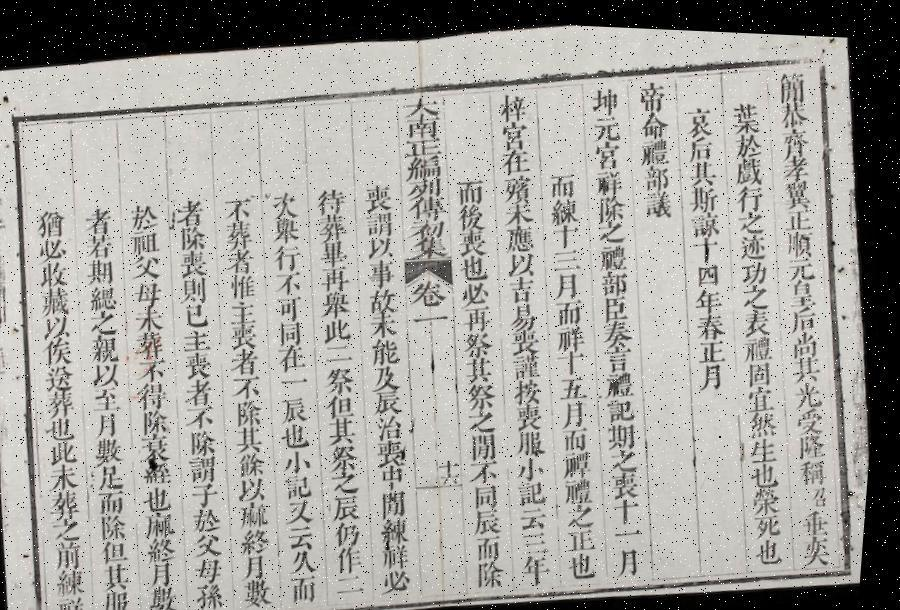c: (410, 272, 454, 306), (728, 90, 766, 129), (772, 60, 812, 96), (805, 525, 844, 561), (51, 486, 92, 520), (524, 546, 562, 582), (38, 284, 78, 318), (495, 84, 532, 120), (34, 205, 72, 240), (682, 96, 718, 132), (223, 214, 260, 249), (777, 117, 814, 152), (500, 168, 538, 202), (732, 147, 770, 181), (401, 109, 445, 138), (634, 72, 670, 107), (618, 538, 654, 573), (314, 180, 351, 214), (742, 298, 779, 332), (57, 537, 94, 571), (613, 462, 650, 496), (136, 326, 173, 360), (780, 170, 818, 203), (754, 476, 792, 509), (637, 129, 676, 161), (43, 334, 82, 366), (410, 230, 454, 258), (362, 176, 398, 210), (587, 78, 623, 112), (174, 192, 210, 226), (497, 114, 533, 148), (293, 568, 329, 602), (90, 330, 126, 364), (329, 411, 366, 444), (597, 235, 634, 268), (602, 313, 639, 346), (47, 385, 84, 418), (326, 360, 363, 393), (408, 190, 450, 219), (271, 238, 309, 270), (504, 218, 542, 250), (138, 378, 176, 410), (242, 496, 280, 528), (566, 470, 604, 502), (142, 429, 180, 461), (796, 397, 834, 429), (798, 448, 836, 480), (786, 270, 824, 302), (246, 574, 284, 606), (104, 559, 142, 591), (696, 304, 734, 336), (404, 150, 447, 178), (128, 198, 164, 231), (278, 339, 314, 372), (400, 89, 444, 116), (548, 190, 585, 222), (687, 176, 724, 208), (335, 488, 372, 520), (338, 540, 375, 572), (231, 344, 268, 376), (609, 414, 646, 446), (200, 578, 237, 610), (636, 102, 673, 134), (316, 208, 353, 240), (321, 286, 358, 318), (371, 332, 408, 364), (148, 507, 186, 538), (688, 203, 726, 234), (498, 142, 536, 173), (564, 443, 602, 474), (378, 433, 416, 464), (518, 472, 556, 503), (384, 536, 422, 567), (51, 460, 89, 491), (794, 371, 832, 402), (791, 345, 829, 376), (606, 363, 644, 394), (363, 205, 401, 236), (591, 133, 626, 166), (244, 522, 280, 554), (518, 422, 554, 454), (282, 390, 318, 422), (332, 438, 368, 470), (191, 451, 227, 483), (236, 394, 272, 426), (186, 374, 222, 406), (190, 424, 226, 456), (178, 246, 214, 278), (228, 268, 264, 300), (640, 156, 676, 188), (237, 421, 273, 453), (96, 434, 132, 466), (546, 164, 582, 196), (480, 553, 516, 585), (642, 183, 678, 215), (758, 528, 794, 560), (750, 400, 786, 432), (804, 498, 840, 530), (516, 396, 552, 428), (572, 544, 608, 576), (454, 170, 490, 202), (784, 220, 820, 252), (87, 282, 124, 313), (322, 312, 360, 342), (556, 318, 594, 348), (510, 322, 548, 352), (385, 562, 423, 592), (147, 480, 182, 512), (367, 254, 402, 286), (370, 306, 406, 337), (468, 377, 504, 408), (318, 235, 354, 266), (456, 197, 492, 228), (458, 223, 494, 254), (271, 212, 307, 243), (595, 188, 631, 219), (464, 325, 500, 356), (514, 372, 550, 403), (286, 468, 322, 499), (134, 276, 170, 307), (102, 510, 138, 541), (614, 489, 650, 520), (789, 296, 825, 327), (734, 176, 770, 207), (752, 426, 788, 457), (608, 389, 644, 420), (60, 566, 96, 597), (196, 502, 233, 532), (461, 275, 498, 305), (131, 250, 168, 280), (463, 300, 500, 330), (142, 405, 179, 435), (150, 532, 187, 562), (798, 423, 835, 453), (522, 498, 559, 528), (775, 92, 812, 122), (145, 455, 182, 485), (45, 362, 82, 392), (130, 226, 168, 255), (568, 496, 606, 525), (332, 465, 370, 494), (518, 449, 556, 478), (402, 132, 446, 157), (270, 185, 304, 217), (384, 484, 418, 516), (554, 264, 588, 296), (82, 203, 117, 234), (472, 426, 507, 457), (510, 297, 545, 328), (230, 318, 266, 348), (274, 265, 310, 295), (180, 273, 216, 303), (384, 512, 420, 542), (466, 350, 502, 380), (459, 249, 495, 279), (83, 230, 119, 260), (135, 302, 171, 332), (476, 502, 512, 532), (590, 108, 626, 138), (38, 258, 74, 288), (197, 528, 233, 558), (694, 278, 730, 308), (748, 376, 784, 406), (506, 246, 542, 276), (744, 327, 780, 357), (51, 436, 87, 466), (560, 368, 596, 398), (198, 552, 234, 582), (223, 191, 259, 221), (94, 382, 130, 412), (368, 282, 404, 312), (513, 348, 550, 377), (233, 370, 270, 399), (756, 504, 793, 533), (103, 536, 140, 565), (285, 444, 322, 473), (414, 304, 455, 330), (700, 354, 734, 385), (562, 393, 596, 424), (86, 255, 121, 285), (289, 493, 324, 523), (508, 270, 543, 300), (600, 262, 635, 292), (101, 486, 136, 516), (686, 152, 721, 182), (99, 460, 134, 490), (240, 471, 276, 500), (89, 307, 125, 336), (37, 235, 73, 264), (570, 520, 606, 549), (290, 520, 326, 549), (790, 322, 826, 351), (746, 352, 782, 381), (604, 339, 640, 368), (92, 358, 128, 387), (319, 262, 356, 290), (153, 582, 190, 610), (42, 312, 79, 340), (48, 413, 85, 441), (470, 403, 507, 431), (472, 454, 509, 482), (186, 348, 220, 378), (594, 162, 628, 192), (284, 418, 318, 448), (692, 228, 726, 258), (377, 409, 412, 438), (226, 245, 261, 274), (337, 516, 372, 545), (742, 275, 777, 304), (754, 452, 789, 481), (602, 288, 637, 317), (556, 294, 591, 323), (293, 544, 328, 573), (138, 354, 174, 382), (550, 218, 586, 246), (552, 241, 588, 269), (612, 440, 648, 468), (783, 198, 819, 226), (524, 524, 560, 552), (730, 124, 766, 152), (558, 344, 594, 372), (785, 247, 822, 274), (55, 515, 92, 542), (184, 298, 217, 328), (240, 448, 274, 477), (374, 360, 408, 389), (740, 252, 775, 280), (737, 226, 772, 254), (502, 196, 538, 223), (96, 408, 128, 438), (479, 529, 512, 558), (376, 384, 410, 412), (178, 222, 212, 250), (194, 478, 228, 506), (276, 291, 310, 319), (780, 146, 814, 174), (564, 420, 598, 448), (152, 558, 186, 586), (184, 324, 219, 351), (699, 331, 734, 358), (188, 401, 223, 428), (278, 316, 310, 345), (107, 585, 144, 610), (476, 476, 509, 504), (245, 550, 278, 578), (383, 459, 416, 487), (685, 128, 718, 156), (410, 212, 450, 235), (407, 173, 447, 196), (329, 390, 364, 416), (695, 254, 727, 282), (230, 296, 264, 322), (341, 568, 375, 594), (736, 202, 770, 228), (367, 231, 400, 257), (326, 338, 360, 363), (598, 214, 630, 240), (810, 475, 839, 502), (281, 369, 316, 390), (617, 517, 652, 538), (60, 592, 98, 610), (442, 450, 466, 472), (446, 468, 468, 482)
